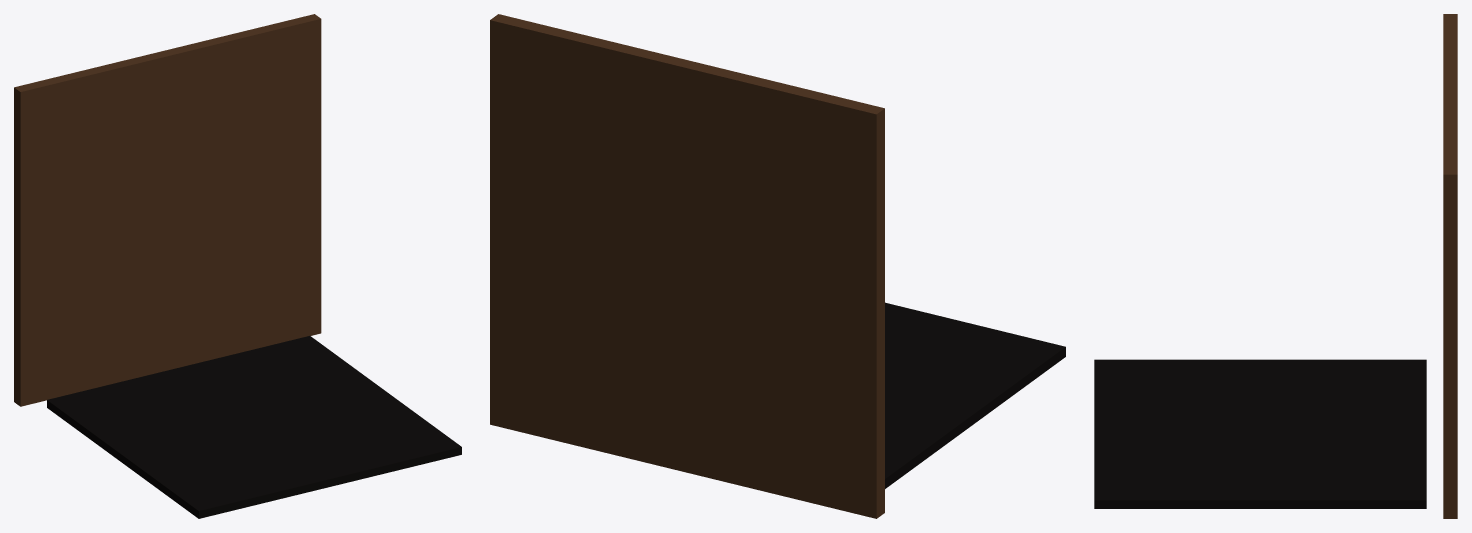
File: hatch-open.bd866af8.glb
The picture shows the model from 3 angles, left to right: view 1: azimuth 30°, elevation 25°; view 2: azimuth 150°, elevation 25°; view 3: azimuth 270°, elevation 25°; orthographic projection. The views are drawn at different scales.
Visible parts, largest first — view 1: body; view 2: body; view 3: body.
Boxes of the visible parts, left/top/right/bottom form: body: left=14, top=14, right=461, bottom=518; body: left=490, top=14, right=1065, bottom=518; body: left=1094, top=14, right=1457, bottom=518.
Size of the model in its own units: 0.8 by 0.8 by 0.765.
